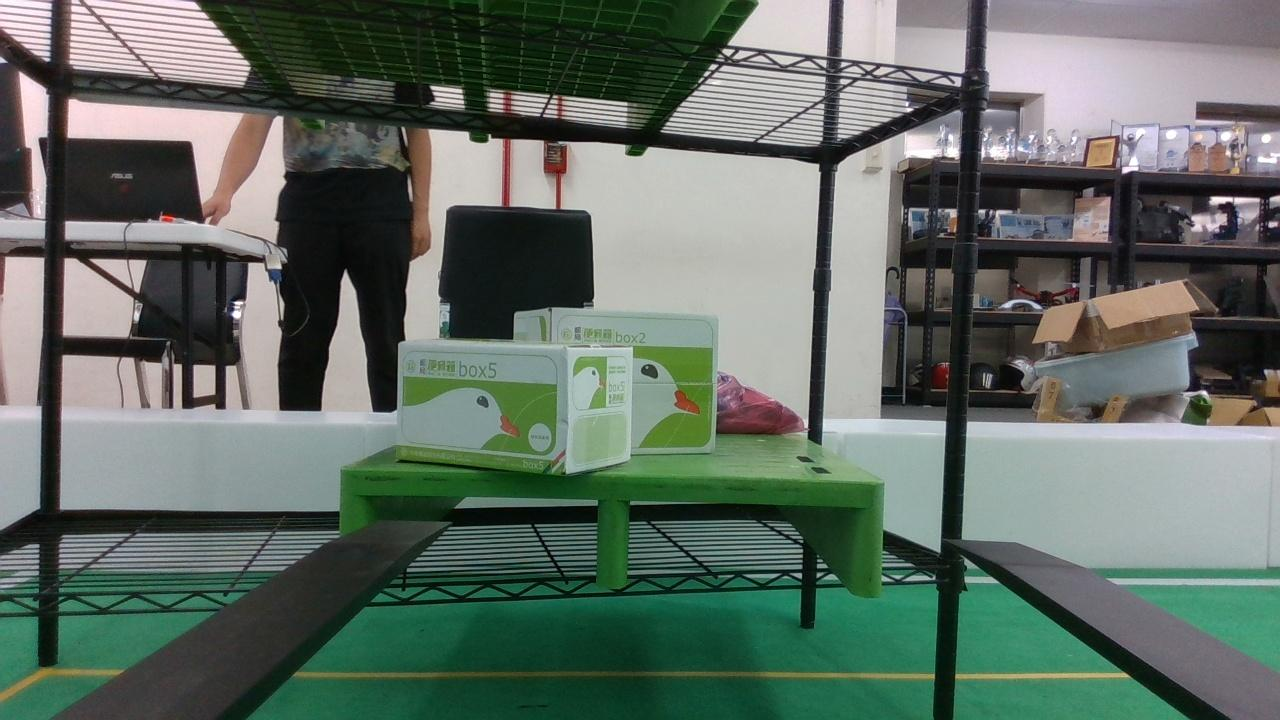Pallet: (343, 477, 893, 600)
